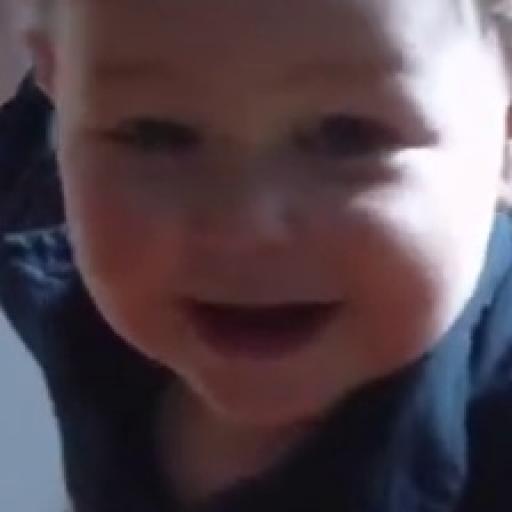Autism: (34, 0, 488, 425)
